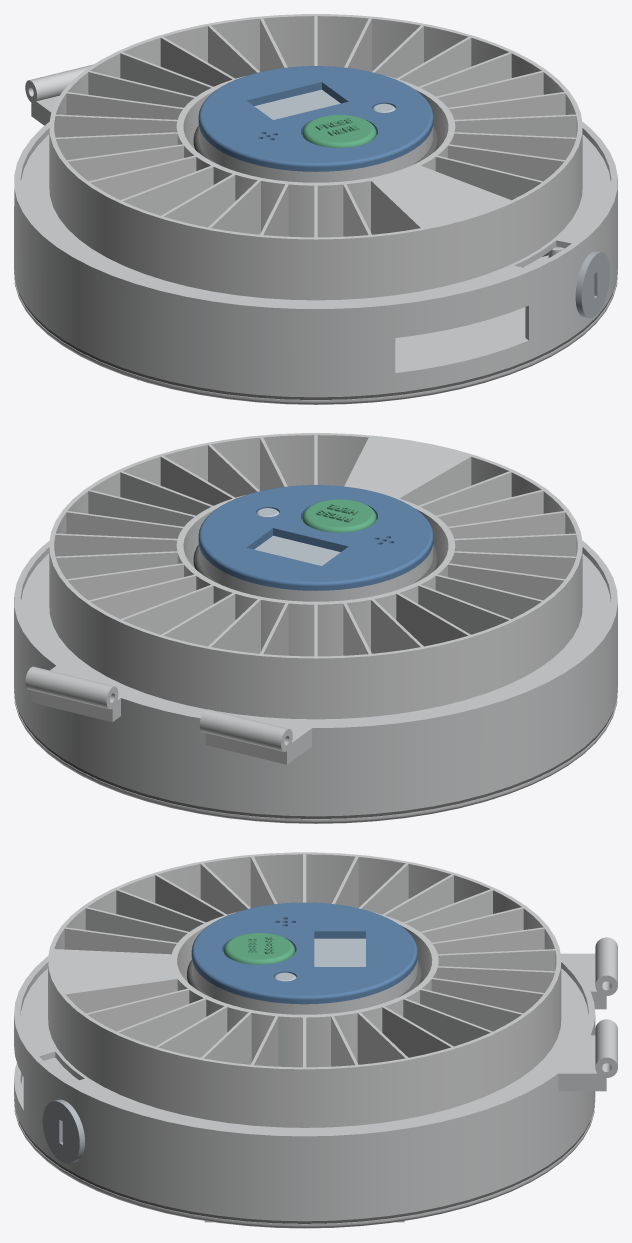
Rendered from step_05.glb.
The picture shows the model from 3 angles, top to bottom: view 1: azimuth 30°, elevation 25°; view 2: azimuth 150°, elevation 25°; view 3: azimuth 270°, elevation 25°; orthographic projection. The views are drawn at different scales.
Parts seen in each view (by area): view 1: part__carousel, part__chassis, part__pod cap, part__bottom cover, part__pod column, part__PRESS HERE button, part__base gasket, part__pharmacy lock, part__display window; view 2: part__carousel, part__chassis, part__pod cap, part__bottom cover, part__pod column, part__PRESS HERE button, part__base gasket, part__display window; view 3: part__carousel, part__chassis, part__pod cap, part__bottom cover, part__pod column, part__pharmacy lock, part__base gasket, part__PRESS HERE button, part__display window.
Part boxes in pixels (bbox=[...]): part__carousel: bbox=[49, 14, 582, 300]; part__chassis: bbox=[14, 64, 617, 397]; part__pod cap: bbox=[198, 66, 433, 171]; part__bottom cover: bbox=[14, 247, 617, 404]; part__pod column: bbox=[198, 126, 433, 182]; part__PRESS HERE button: bbox=[302, 114, 376, 147]; part__base gasket: bbox=[15, 282, 616, 399]; part__pharmacy lock: bbox=[575, 251, 609, 318]; part__display window: bbox=[254, 89, 340, 119]; part__carousel: bbox=[49, 433, 582, 719]; part__chassis: bbox=[14, 541, 617, 816]; part__pod cap: bbox=[198, 485, 433, 590]; part__bottom cover: bbox=[14, 688, 617, 823]; part__pod column: bbox=[198, 544, 433, 601]; part__PRESS HERE button: bbox=[302, 499, 376, 532]; part__base gasket: bbox=[15, 701, 616, 818]; part__display window: bbox=[254, 535, 340, 565]; part__carousel: bbox=[48, 852, 561, 1127]; part__chassis: bbox=[14, 937, 617, 1221]; part__pod cap: bbox=[191, 902, 417, 1004]; part__bottom cover: bbox=[14, 1058, 595, 1228]; part__pod column: bbox=[191, 958, 417, 1014]; part__pharmacy lock: bbox=[42, 1099, 84, 1163]; part__base gasket: bbox=[15, 1110, 593, 1223]; part__PRESS HERE button: bbox=[223, 933, 295, 964]; part__display window: bbox=[314, 938, 365, 966].
Size of the model in its own units: 180 by 58.6 by 187.
